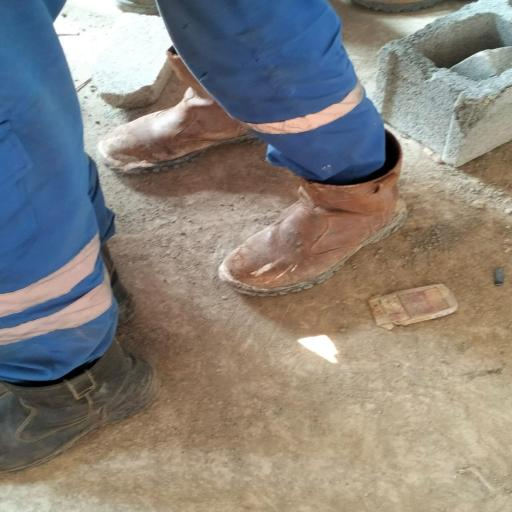safety_shoe: (218, 143, 432, 295), (0, 346, 150, 476), (97, 54, 258, 174)
